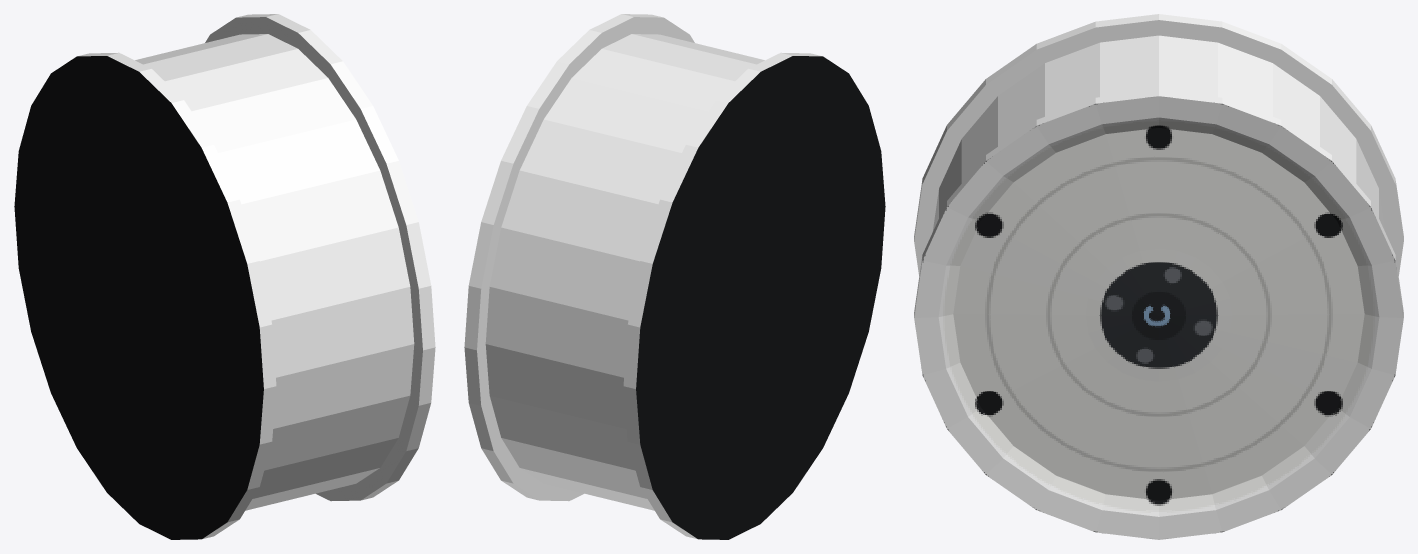
Rendered from catavento_disco_17.glb.
3 renders of one model, left to right at view 1: azimuth 30°, elevation 25°; view 2: azimuth 150°, elevation 25°; view 3: azimuth 270°, elevation 25°, orthographic.
Visible parts, largest first — view 1: catavento_disco_17; view 2: catavento_disco_17; view 3: catavento_disco_17.
Part boxes in pixels (bbox=[...]): catavento_disco_17: bbox=[14, 14, 435, 539]; catavento_disco_17: bbox=[464, 14, 885, 539]; catavento_disco_17: bbox=[914, 14, 1403, 539].
Size of the model in its own units: 0.192 by 0.4836 by 0.4836.
1 material, 1 textured.
